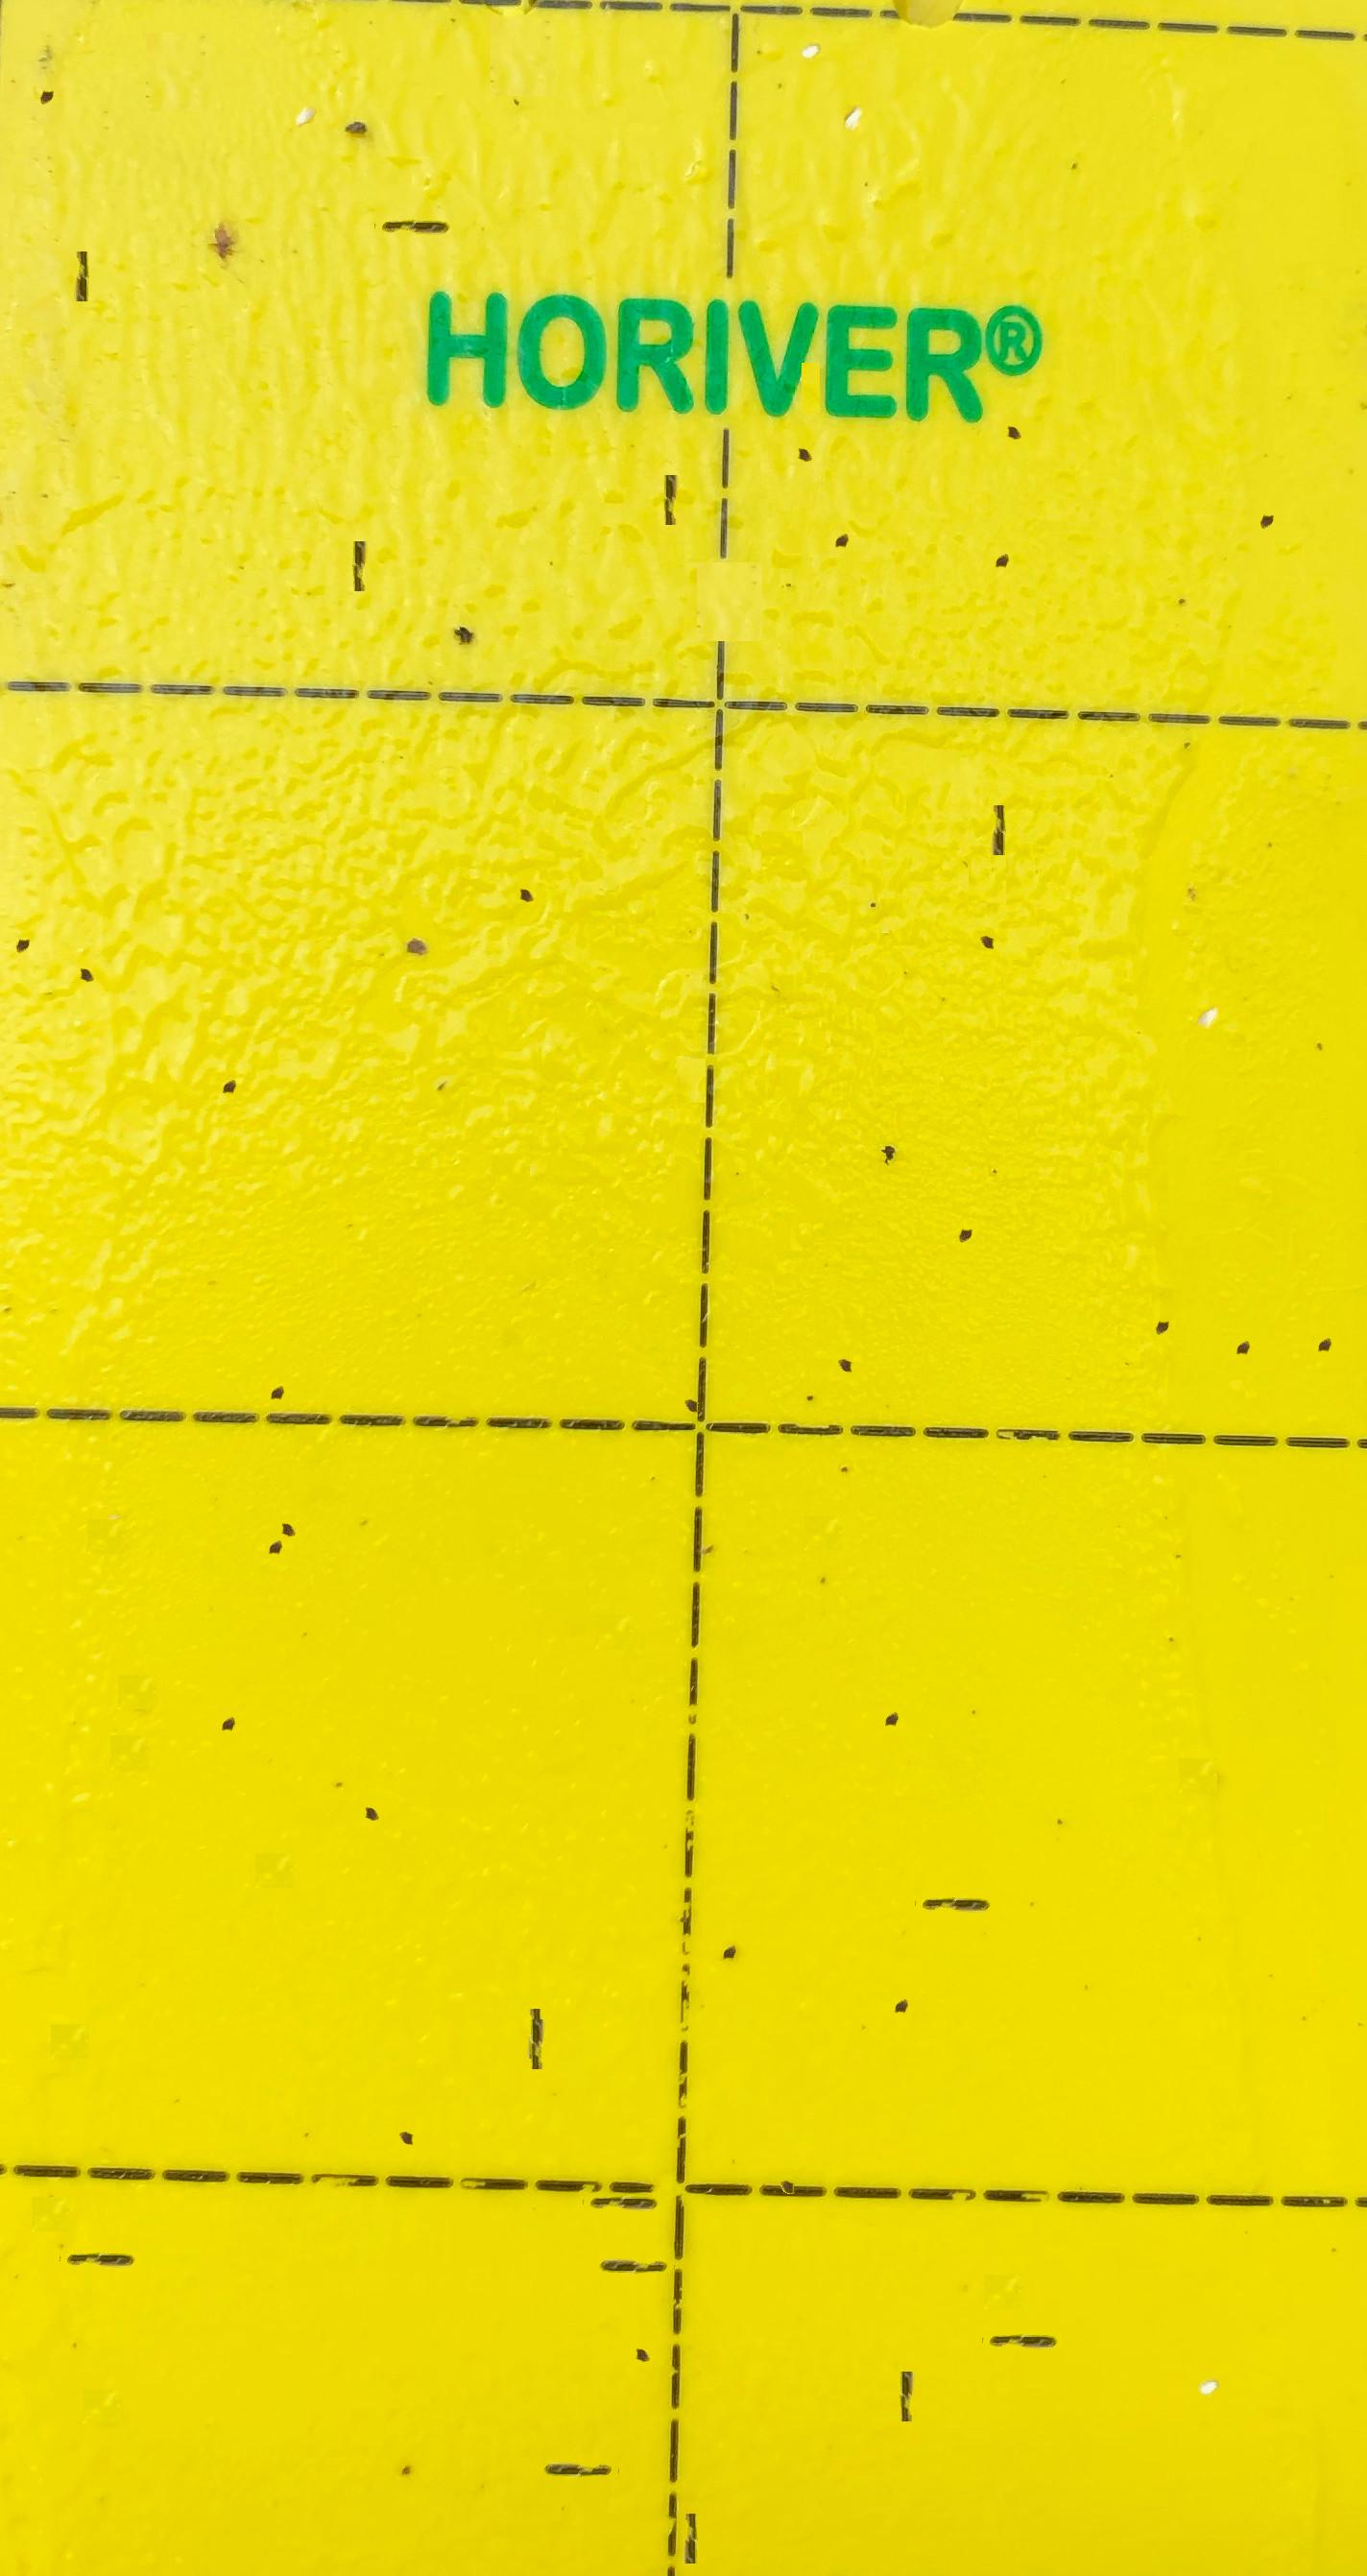white_fly: (1186, 2315, 1229, 2363), (833, 55, 876, 99), (1186, 954, 1229, 997), (285, 49, 326, 94)
